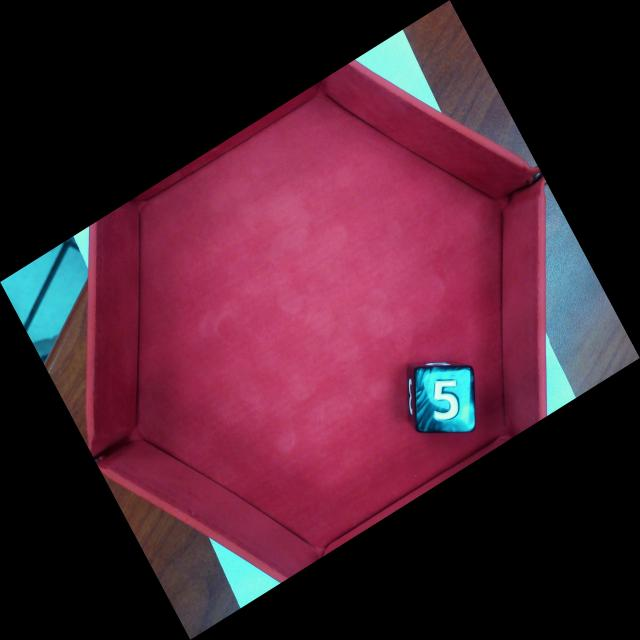dice: (416, 366, 475, 431)
